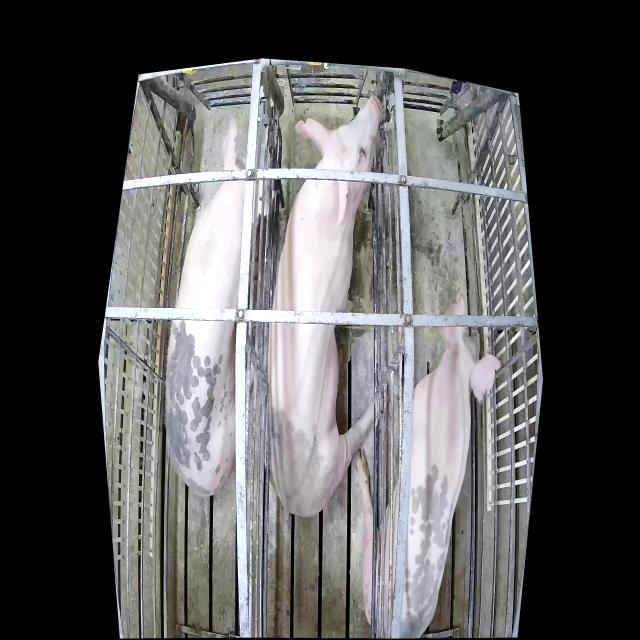pig: (352, 289, 502, 635), (267, 97, 385, 519), (165, 117, 274, 497)
